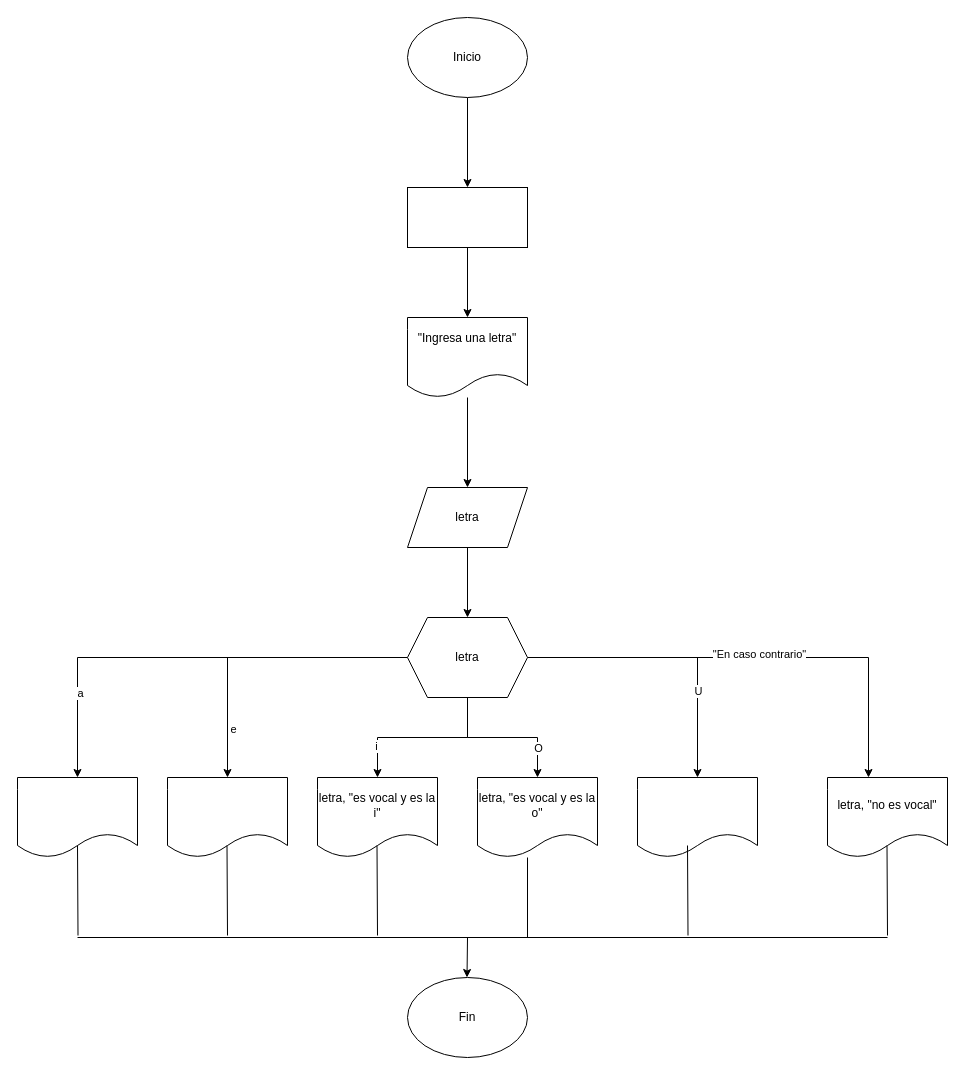
This 965x1075 diagram has some shape labels left out. The shapes that lost their labels are listed below. From the top down, each one's centre as x and y in pixels, then its label:
pixel 467 217: Definir letra como caracter
pixel 77 817: letra, "es vocal y es la a"
pixel 227 817: letra, "es vocal y es la e"
pixel 697 817: letra, "es vocal y es la u"
